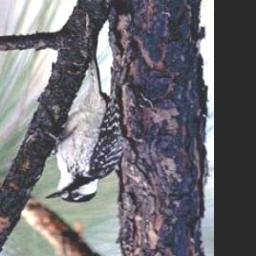Woodpecker: (42, 55, 124, 205)
